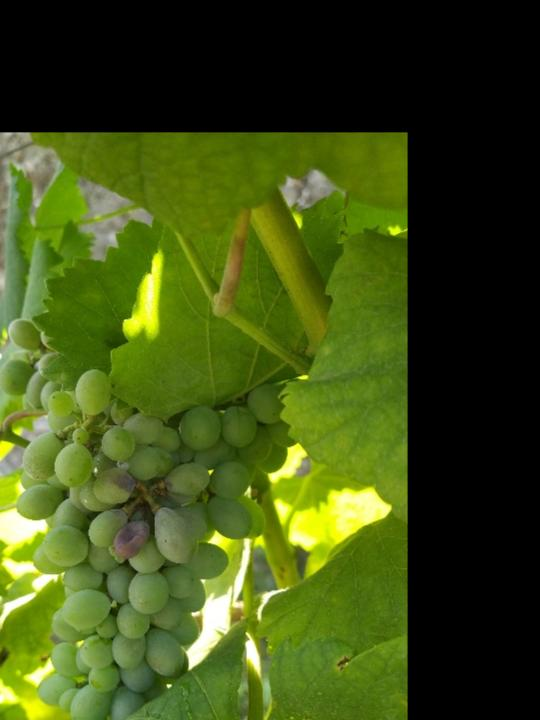grape: (0, 312, 296, 720)
